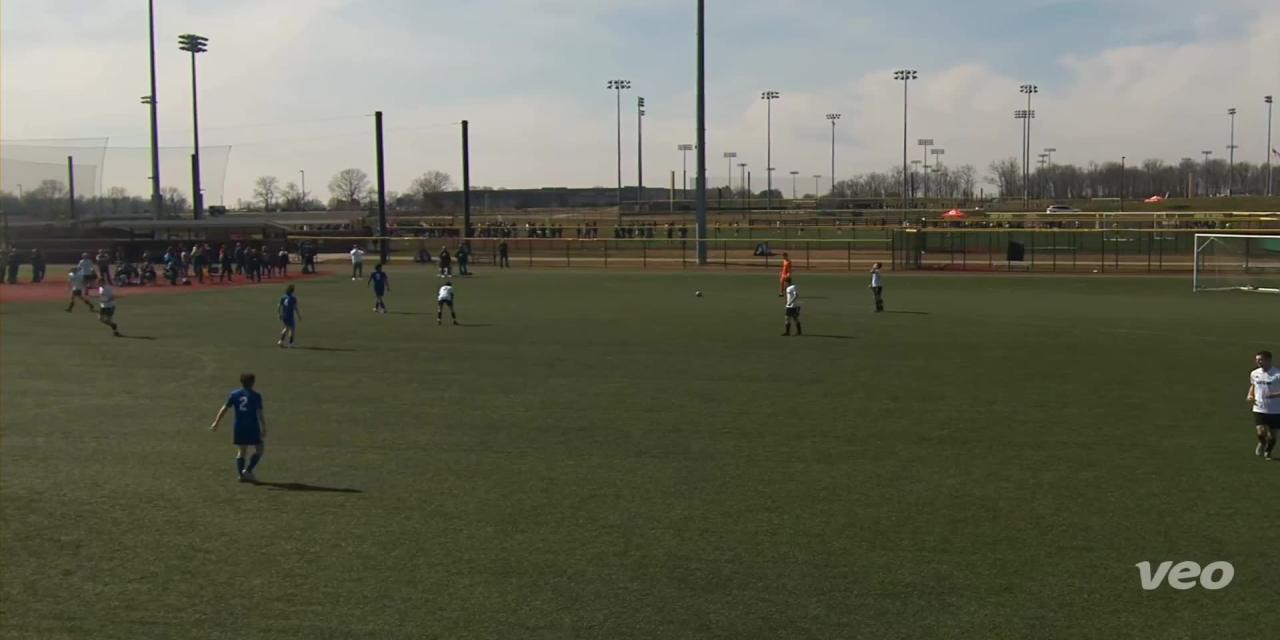goal: (1169, 219, 1280, 300)
sports ball: (691, 284, 704, 304)
